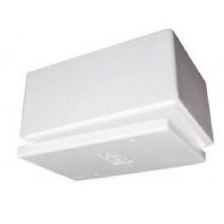foam_box: (11, 23, 220, 188)
